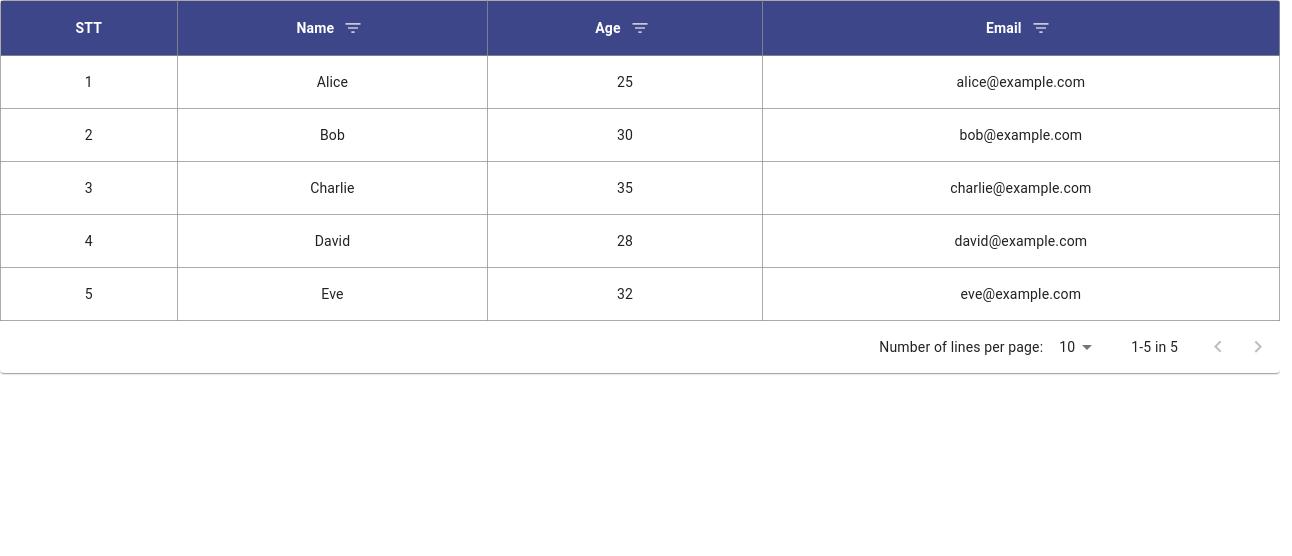
Test: DataTable Component - Unit Tests › Happy Path - Filtering › should filter data when filter applied and OK clicked
Click the button without text next to "Name".
click(353, 28)  # box [338,13,368,43]
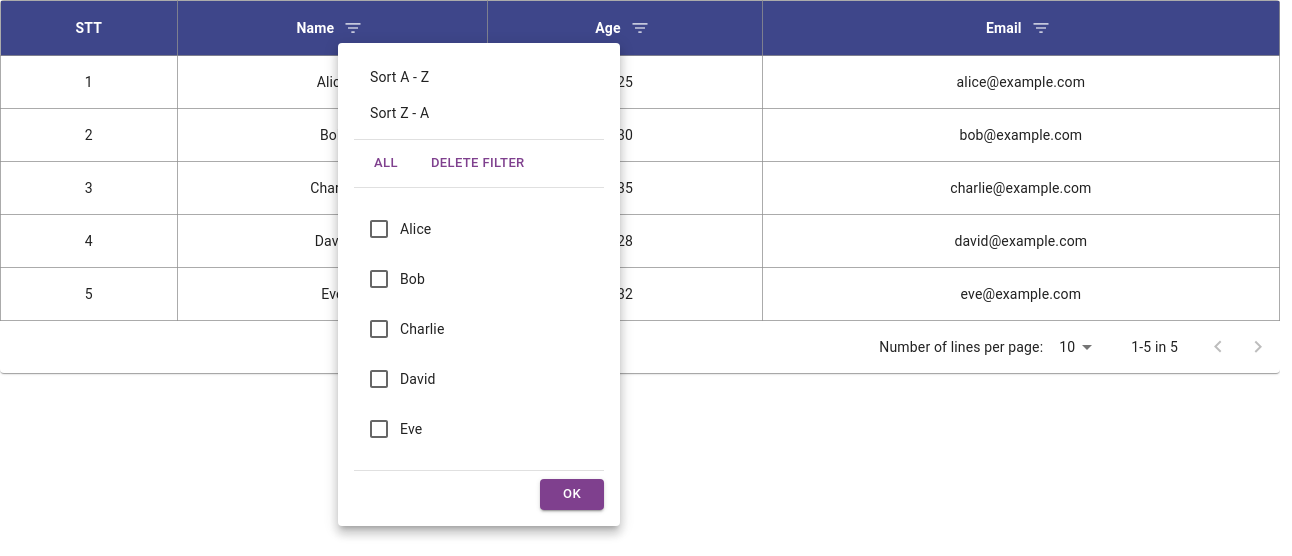
Click the button "Alice".
click(399, 229)  # box [367,217,432,241]
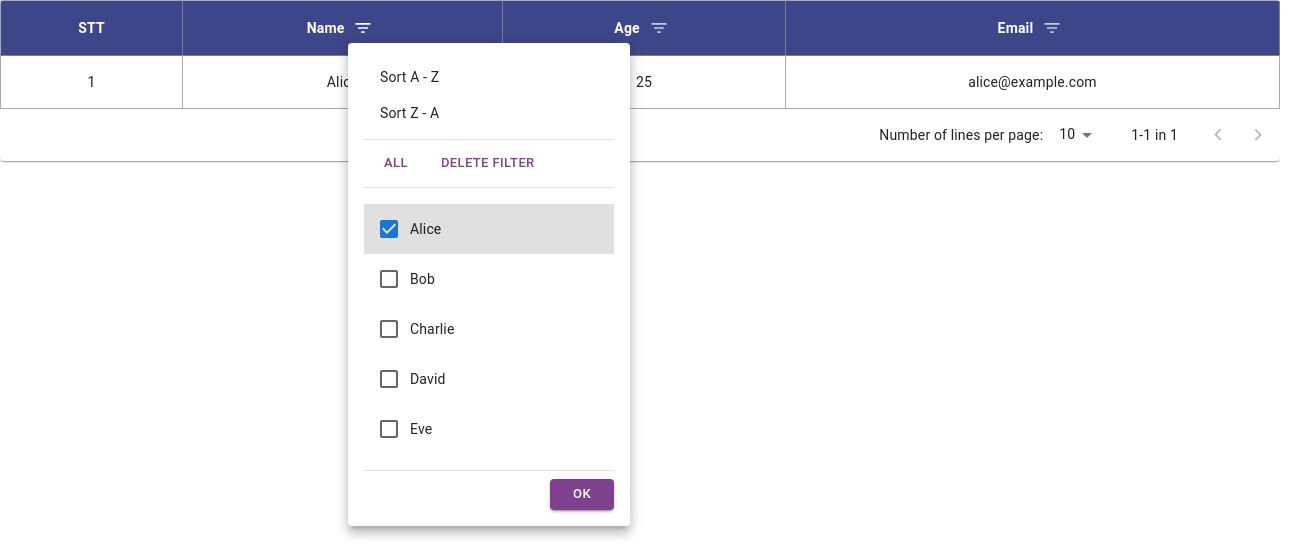
Click OK
Click the button "OK".
click(582, 494)  # box [550,479,614,510]
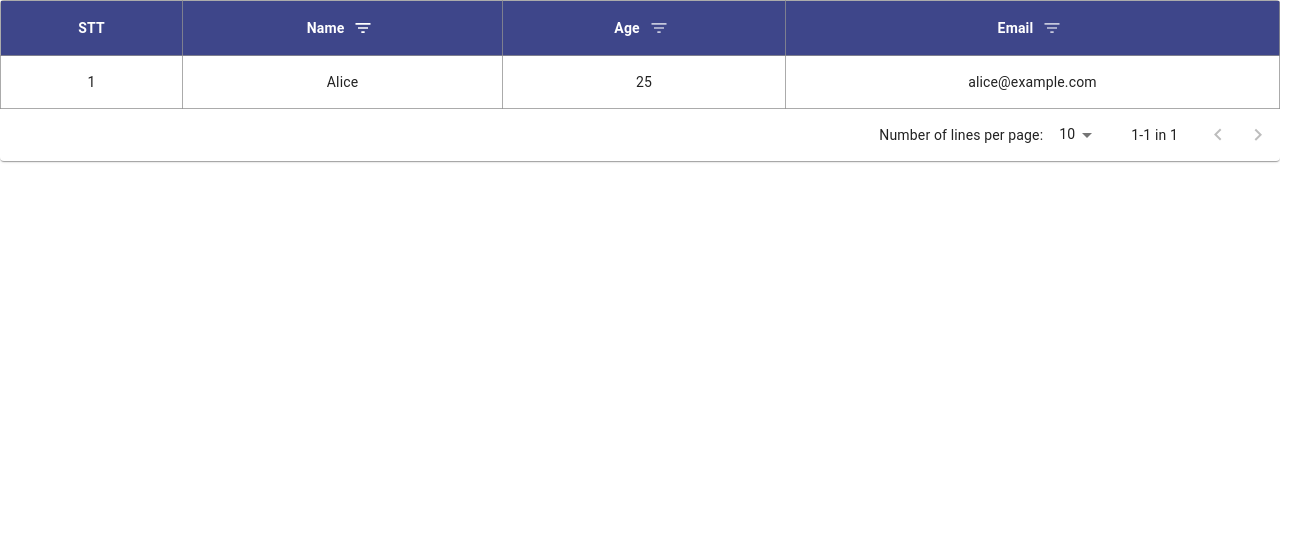
Expected: the text "Alice" is shown, [182,56,503,108]
Result: the button "Bob" is gone
Result: the button "Charlie" is gone
